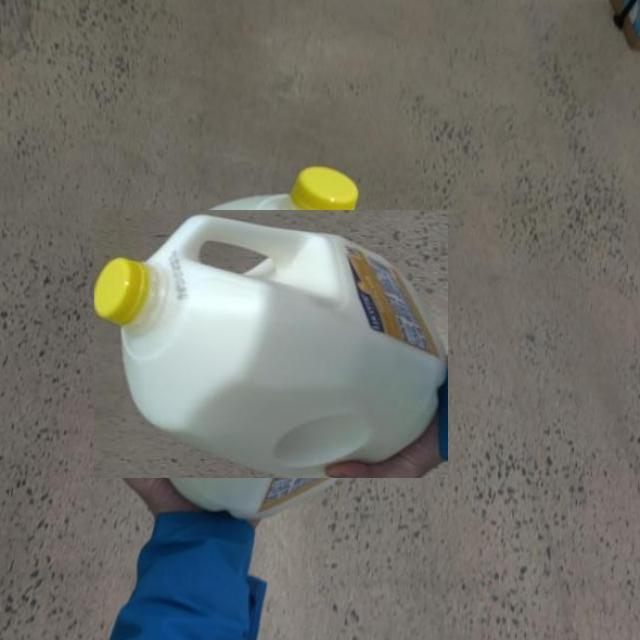Milk: (94, 210, 448, 478)
